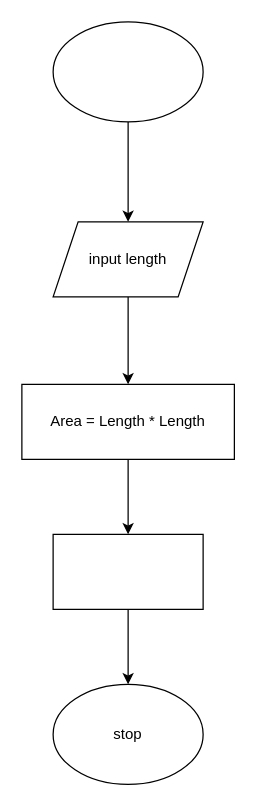
Some shapes in this 256 by 806 pixel diagram are drawn without their labels. The shapes that lost their labels are listed below. From the top down, each one's box as (x1, y1, x2, y2) in pixels, then its label:
(52, 21, 203, 122): start
(52, 533, 203, 609): print Area
